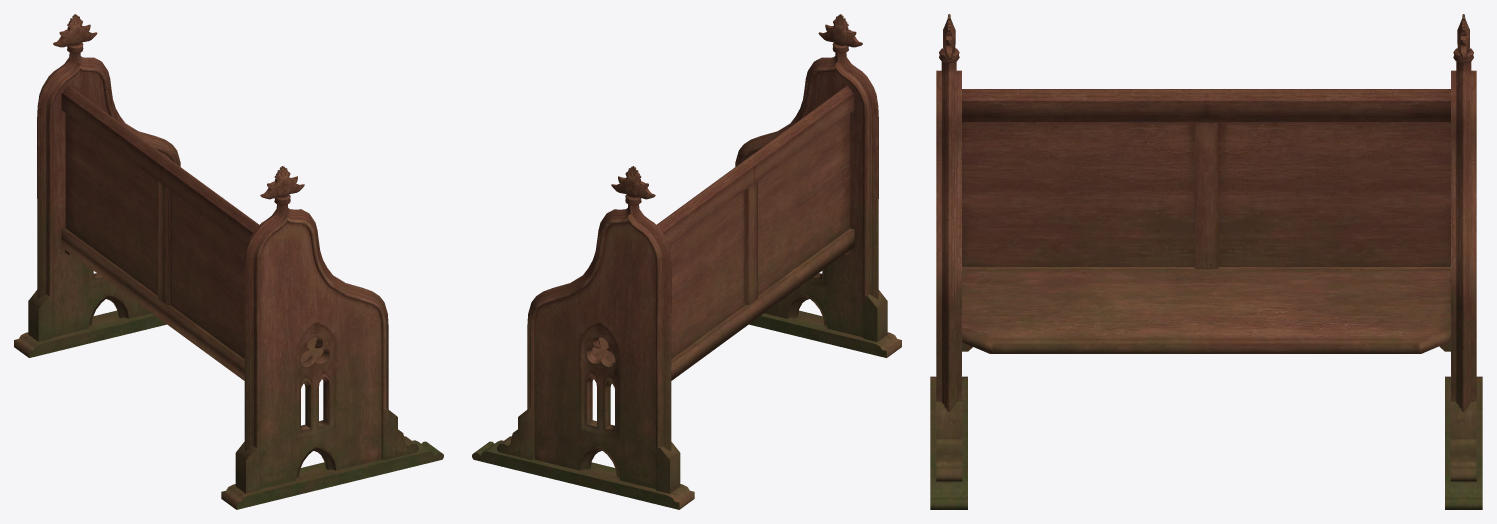
3 renders of one model, left to right at view 1: azimuth 30°, elevation 25°; view 2: azimuth 150°, elevation 25°; view 3: azimuth 270°, elevation 25°, orthographic. The views are drawn at different scales.
Parts seen in each view (by area): view 1: SM_GothicBench01_LOD0; view 2: SM_GothicBench01_LOD0; view 3: SM_GothicBench01_LOD0.
Boxes of the visible parts, <box> form: SM_GothicBench01_LOD0: <box>14,14,443,509</box>; SM_GothicBench01_LOD0: <box>472,14,901,509</box>; SM_GothicBench01_LOD0: <box>930,14,1482,509</box>.
Size of the model in its own units: 1.16 by 1.73 by 2.15.
Materials: 1 (1 with a texture image).
